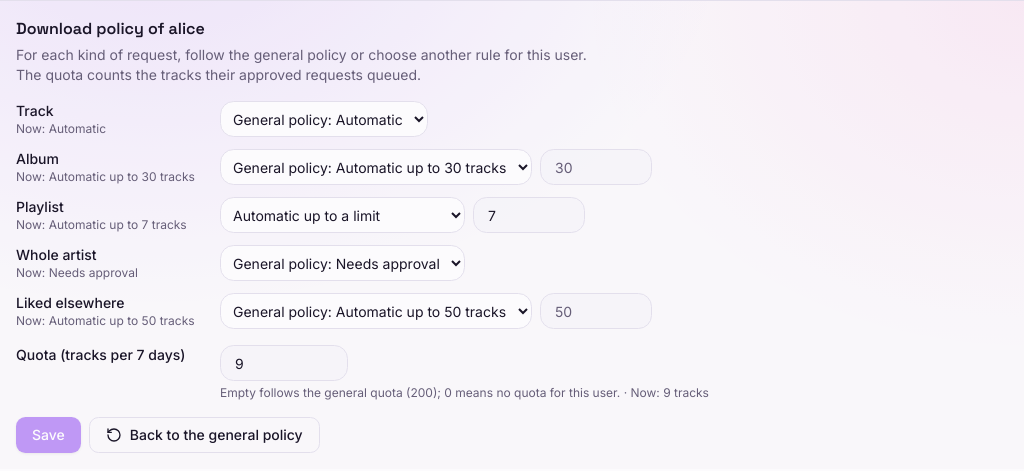
Scenario: a user's download policy › starts from what an admin already set, and 'back to the general policy' clears it
Check: the dropdown named "Rule for Playlist requests" shows "Automatic up to a limit", box left=220, top=197, right=465, bottom=233
Check: the number field labelled "Quota (tracks per 7 days)" holds "9", box left=220, top=345, right=348, bottom=381
Click the button "Back to the general policy". click: (204, 435)
box: left=89, top=417, right=320, bottom=453
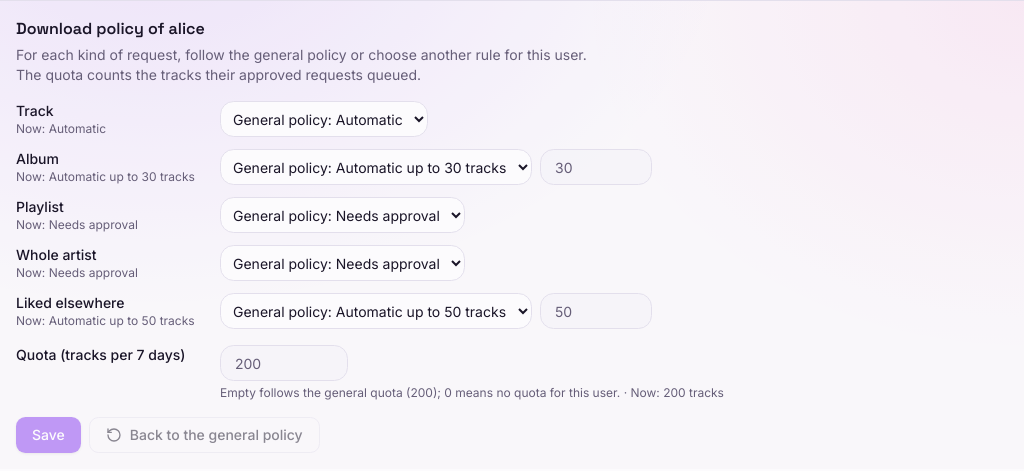
Check: the dropdown named "Rule for Playlist requests" shows "General policy: Needs approval", box left=220, top=197, right=465, bottom=233
Check: the number field labelled "Quota (tracks per 7 days)" is empty, box left=220, top=345, right=348, bottom=381
Check: the button "Back to the general policy" is disabled, box left=89, top=417, right=320, bottom=453
